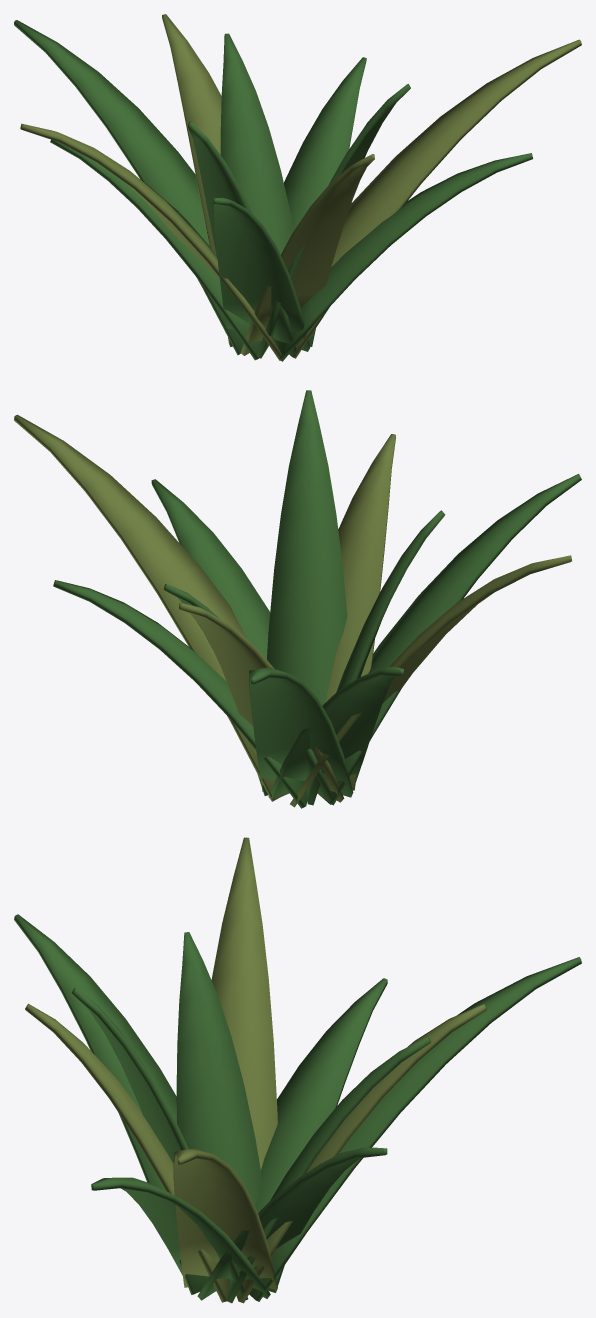
Rendered from flora_sword.glb.
The picture shows the model from 3 angles, top to bottom: view 1: azimuth 30°, elevation 25°; view 2: azimuth 150°, elevation 25°; view 3: azimuth 270°, elevation 25°; orthographic projection. The views are drawn at different scales.
Visible parts, largest first — view 1: leaf_deep, leaf_olive; view 2: leaf_deep, leaf_olive; view 3: leaf_deep, leaf_olive.
Boxes of the visible parts, <box> form: leaf_deep: <box>14,20,532,361</box>; leaf_olive: <box>20,14,581,360</box>; leaf_deep: <box>53,390,581,808</box>; leaf_olive: <box>14,414,571,807</box>; leaf_deep: <box>14,914,581,1303</box>; leaf_olive: <box>25,837,486,1303</box>.
Size of the model in its own units: 0.8964 by 0.4738 by 0.727.
